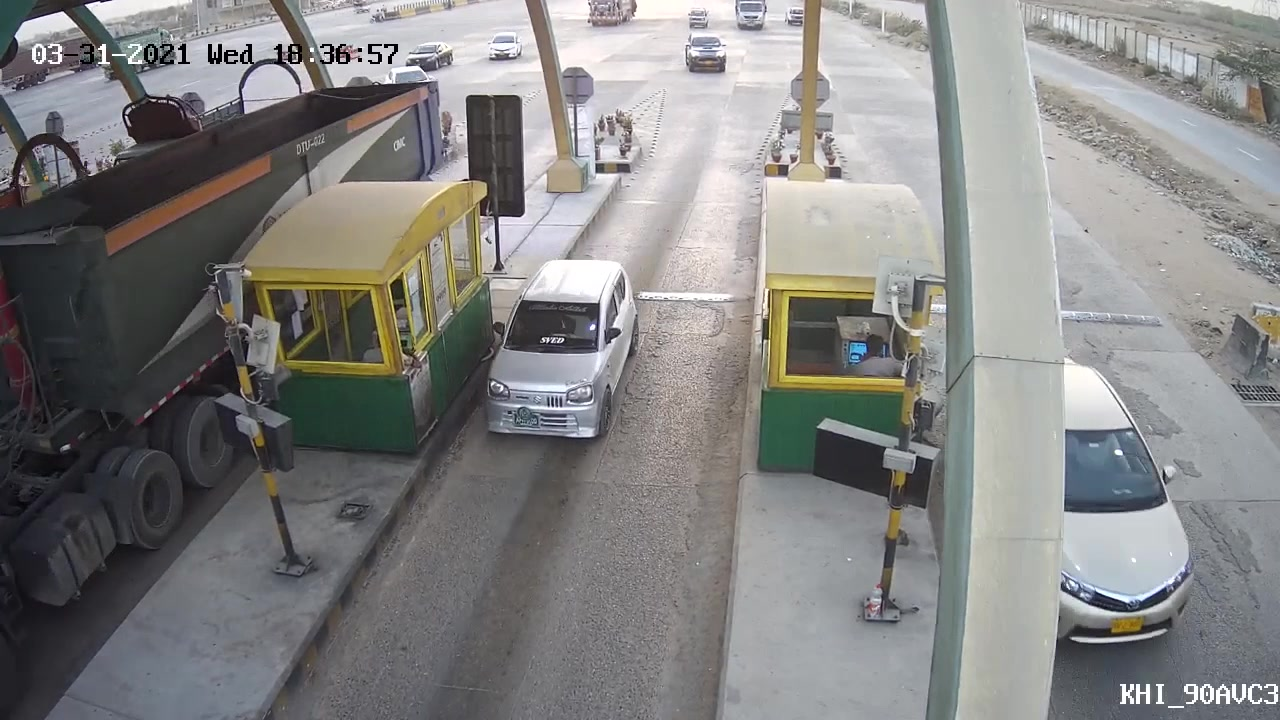F1: (471, 254, 653, 453)
